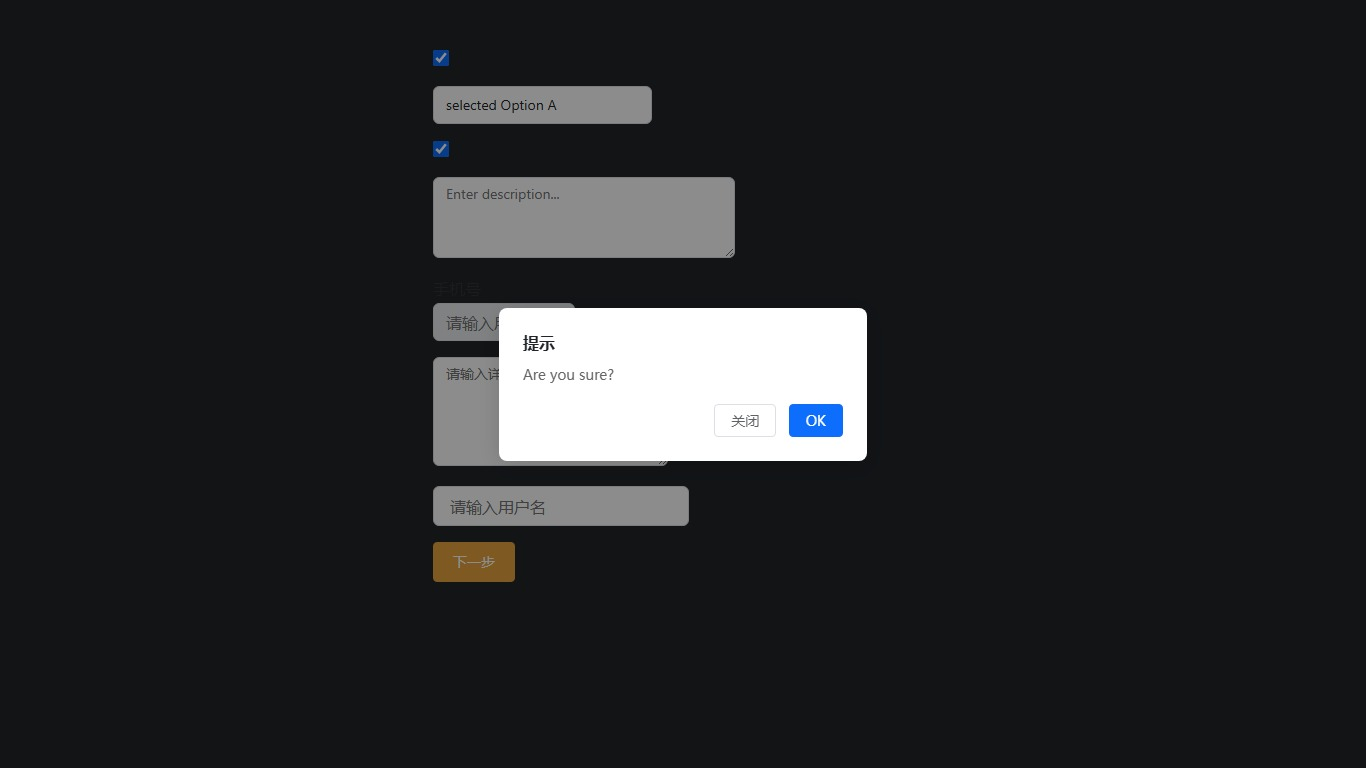button: (433, 542, 515, 582), (714, 403, 776, 437), (789, 403, 843, 437)
checkbox: (433, 50, 449, 66), (433, 141, 449, 157)
icon: (457, 139, 513, 158), (457, 48, 503, 67)
input: (433, 486, 689, 526), (433, 303, 575, 341)
modal: (0, 0, 1366, 768)
radio: (433, 139, 513, 158), (433, 48, 503, 67)
select: (433, 86, 652, 124)
textarea: (433, 357, 668, 466), (433, 177, 735, 258)
